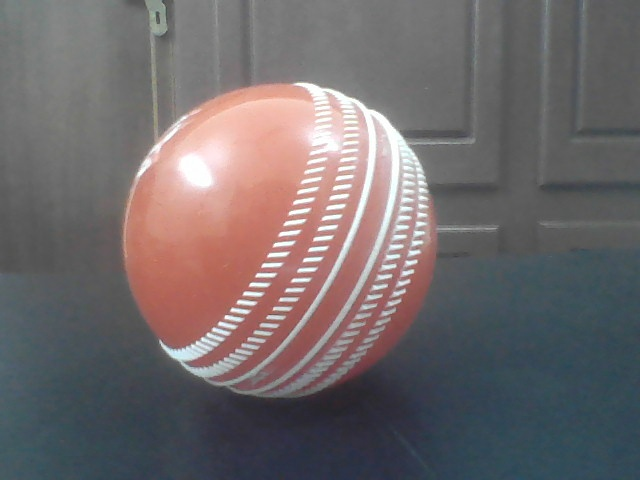cricket_ball: (115, 75, 451, 411)
